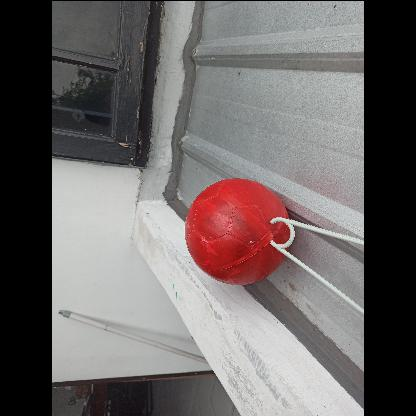red_ball: (184, 177, 288, 281)
